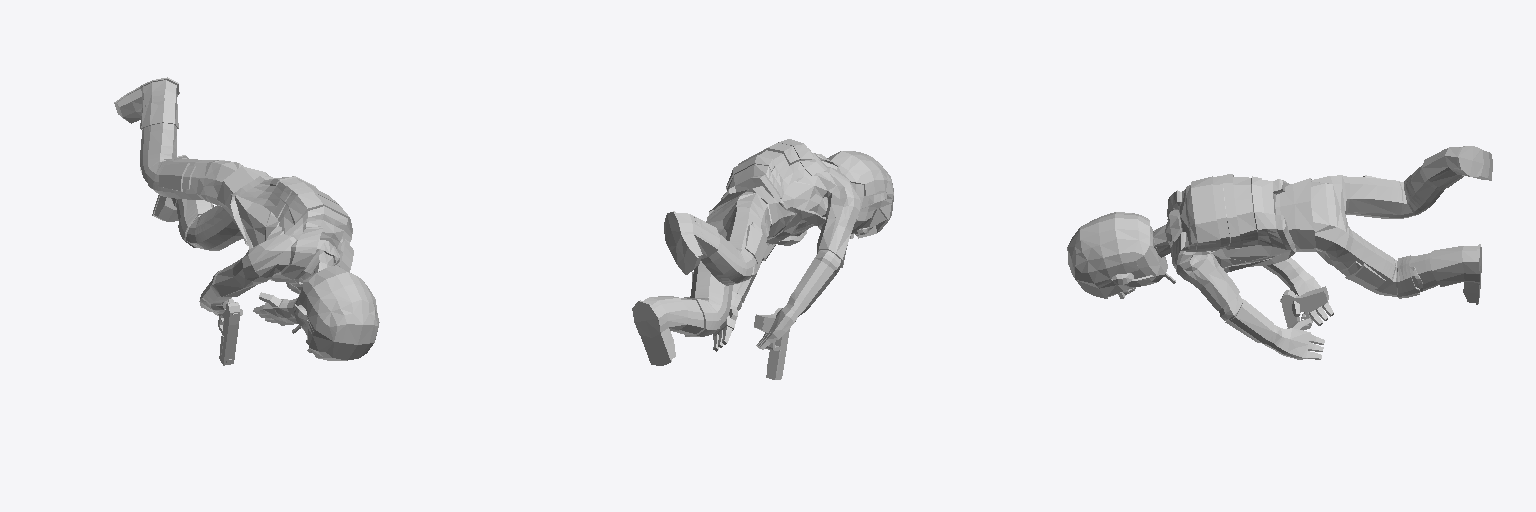
File: frame_0033.obj
3 views of the same model, side by side, from view 1: azimuth 30°, elevation 25°; view 2: azimuth 150°, elevation 25°; view 3: azimuth 270°, elevation 25° (orthographic).
Visible parts, largest first — view 1: Body, Gun; view 2: Body, Gun; view 3: Body, Gun.
Part boxes in pixels (x1,y1,x2,y2): Body: (114, 77, 379, 360); Gun: (218, 298, 239, 365); Body: (632, 139, 893, 365); Gun: (754, 308, 789, 379); Body: (1067, 146, 1492, 359); Gun: (1280, 286, 1328, 359).
Size of the model in its own units: 1.27 by 2.31 by 4.01.